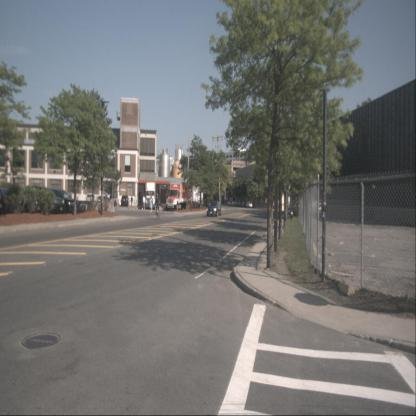human-pedestrian-adult: (148, 196, 153, 216), (142, 196, 146, 210), (130, 196, 133, 210), (134, 195, 136, 209), (265, 198, 267, 208)
vehicle-bicycle: (154, 193, 160, 221)
vehicle-car: (27, 185, 65, 214), (42, 188, 78, 214), (206, 201, 221, 216), (109, 195, 118, 207), (121, 194, 129, 206), (86, 193, 94, 204), (245, 201, 253, 208)
vehicle-truck: (166, 183, 192, 211), (144, 181, 156, 209)
